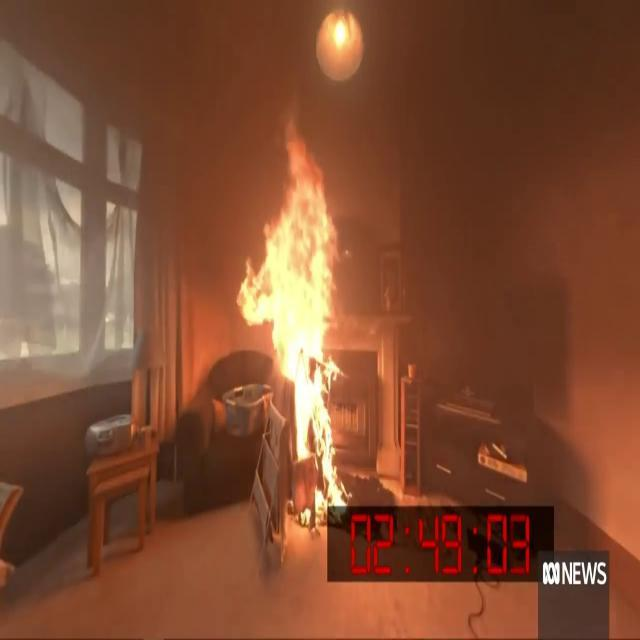Fire: (242, 174, 344, 472), (277, 119, 327, 208)
Smoke: (389, 20, 599, 372), (0, 16, 119, 360), (406, 305, 594, 501), (124, 28, 238, 303)
